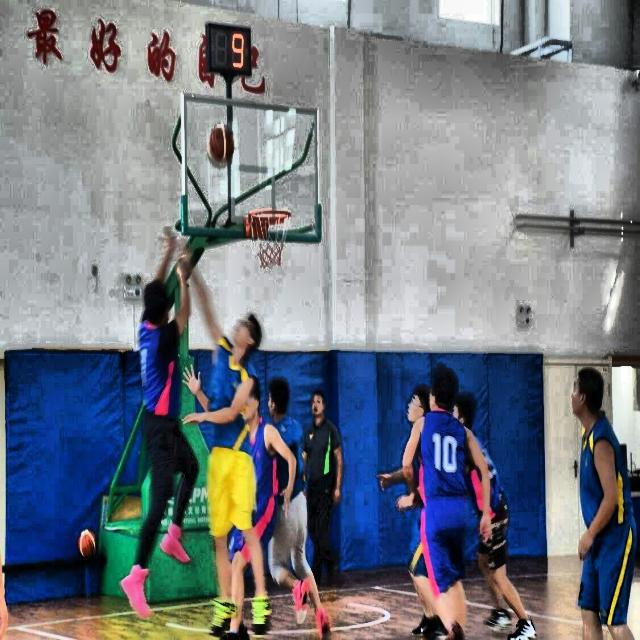rim: (248, 210, 291, 268)
